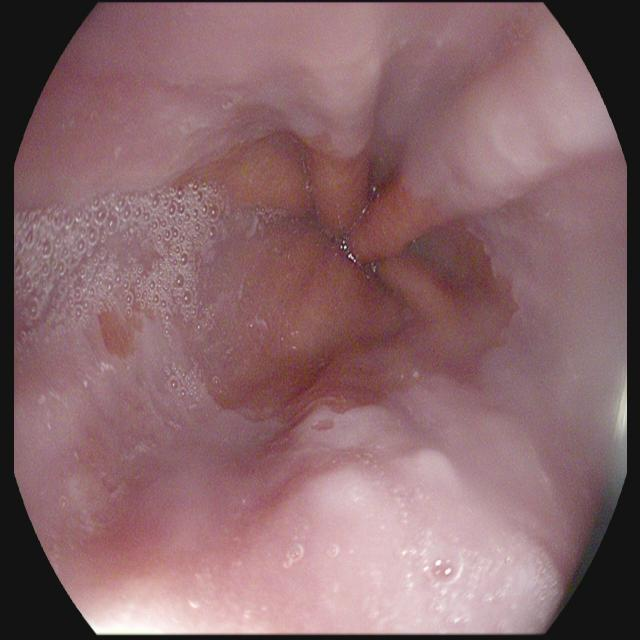Normal-Z-Line: (85, 119, 530, 430)
